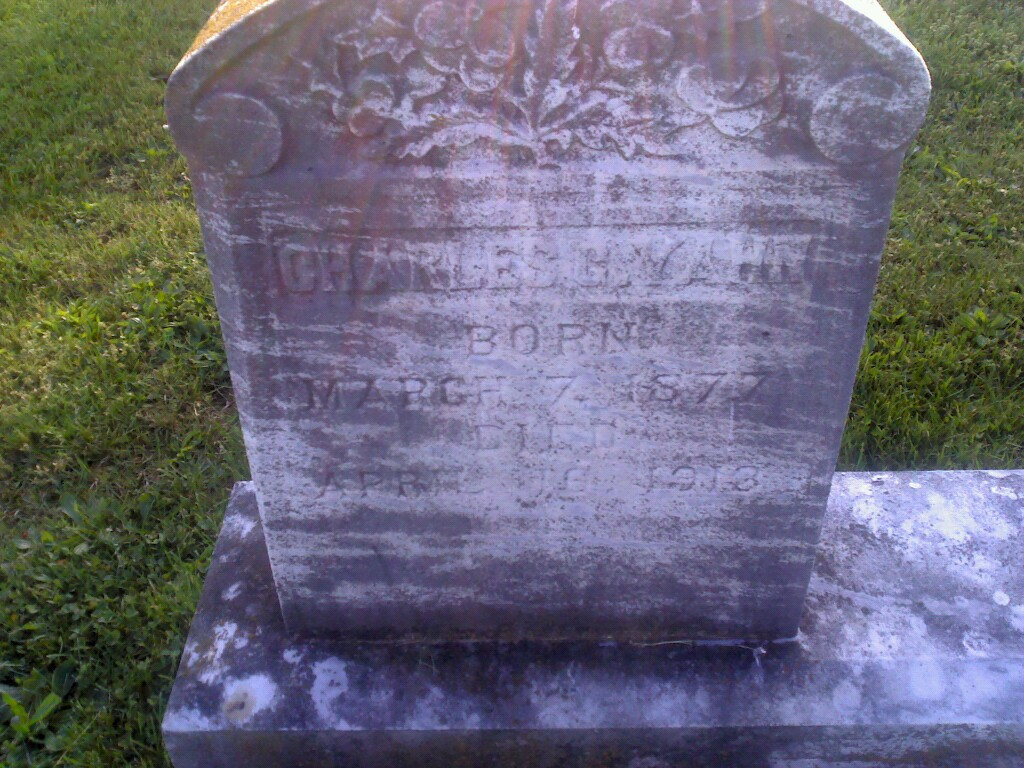upright: (145, 5, 1014, 767)
